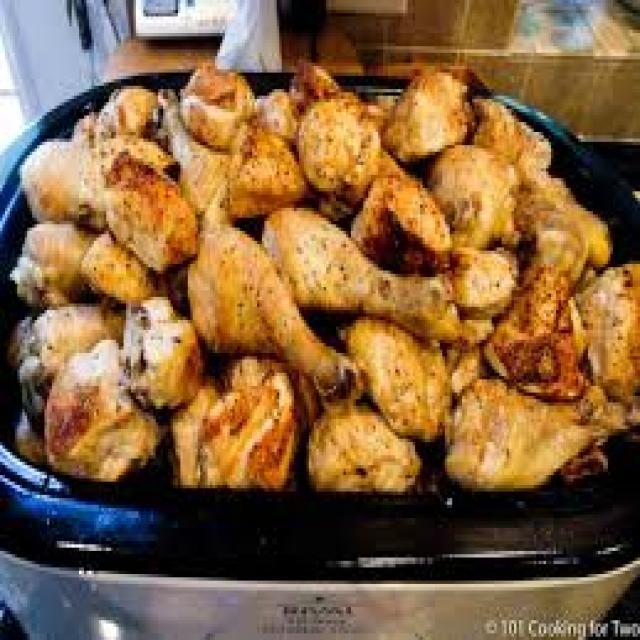Frango: (17, 59, 640, 518)
